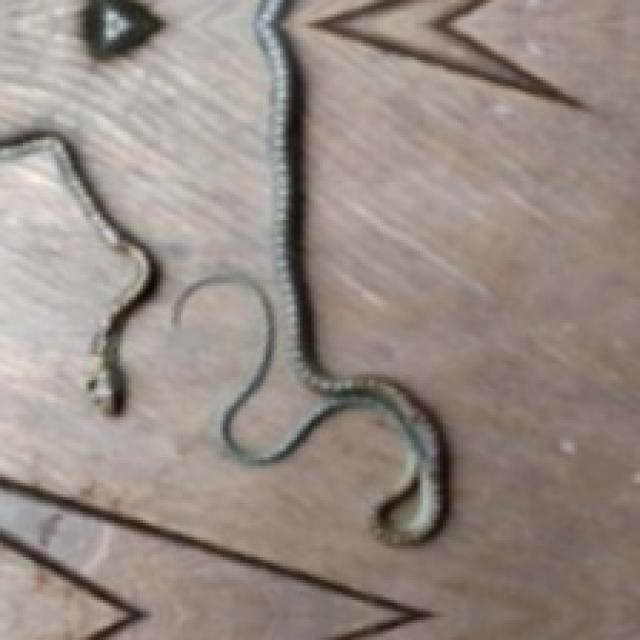paradise tree snake: (0, 0, 254, 326), (311, 51, 551, 303), (426, 311, 540, 409), (440, 286, 454, 309), (497, 400, 511, 409)
